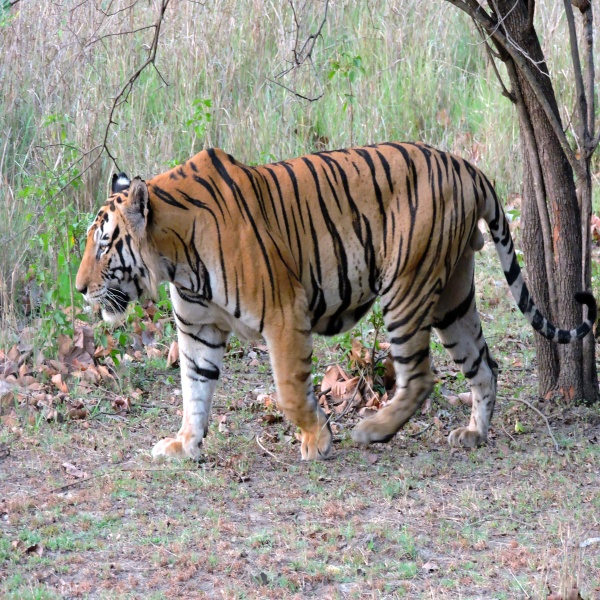Tiger: (71, 139, 598, 469)
